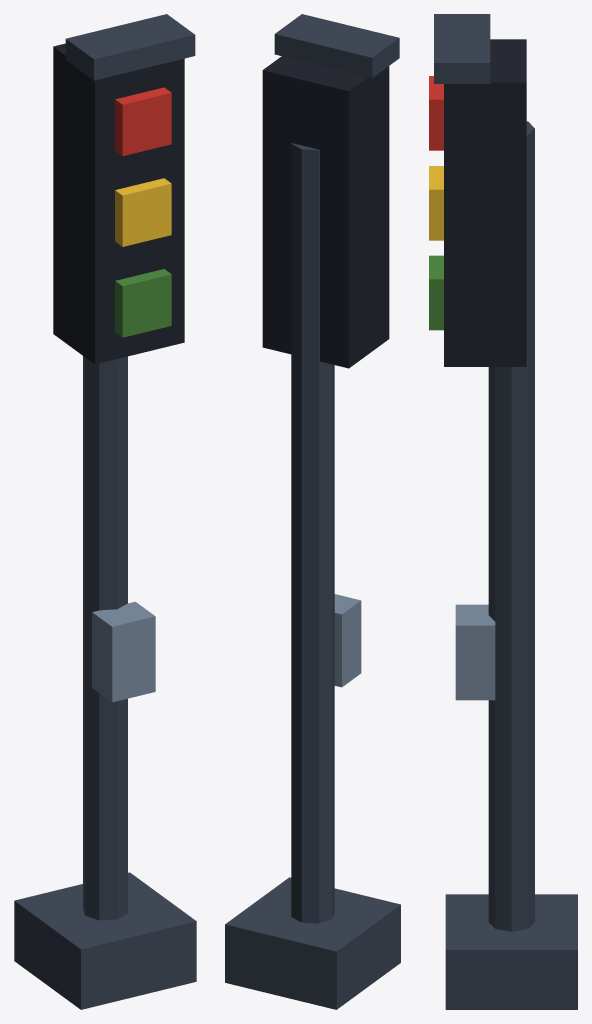
File: cittaSemaforo.glb
3 renders of one model, left to right at view 1: azimuth 30°, elevation 25°; view 2: azimuth 150°, elevation 25°; view 3: azimuth 270°, elevation 25°, orthographic. The views are drawn at different scales.
Parts seen in each view (by area): view 1: cittaSemaforo_steelDark, cittaSemaforo_black, cittaSemaforo_steel, cittaSemaforo_red, cittaSemaforo_yellow, cittaSemaforo_green; view 2: cittaSemaforo_steelDark, cittaSemaforo_black, cittaSemaforo_steel; view 3: cittaSemaforo_steelDark, cittaSemaforo_black, cittaSemaforo_steel, cittaSemaforo_green, cittaSemaforo_yellow, cittaSemaforo_red.
Part boxes in pixels (x1,y1,x2,y2): cittaSemaforo_steelDark: [14, 14, 196, 1009]; cittaSemaforo_black: [53, 43, 184, 364]; cittaSemaforo_steel: [92, 601, 155, 702]; cittaSemaforo_red: [115, 87, 171, 156]; cittaSemaforo_yellow: [115, 178, 171, 246]; cittaSemaforo_green: [115, 269, 171, 337]; cittaSemaforo_steelDark: [225, 14, 400, 1009]; cittaSemaforo_black: [262, 56, 389, 368]; cittaSemaforo_steel: [334, 594, 361, 687]; cittaSemaforo_steelDark: [434, 14, 577, 1009]; cittaSemaforo_black: [444, 39, 526, 366]; cittaSemaforo_steel: [455, 604, 495, 700]; cittaSemaforo_green: [429, 255, 443, 330]; cittaSemaforo_yellow: [429, 166, 443, 240]; cittaSemaforo_red: [429, 76, 443, 150].
Size of the model in its own units: 0.8 by 6.3 by 0.9.
